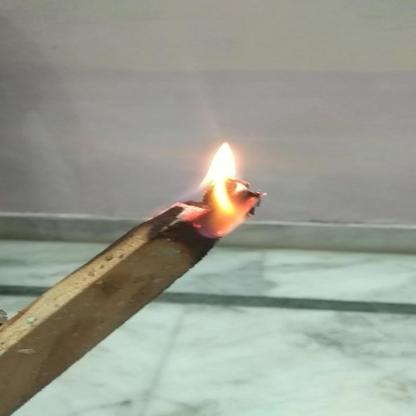fire: (177, 142, 270, 236)
